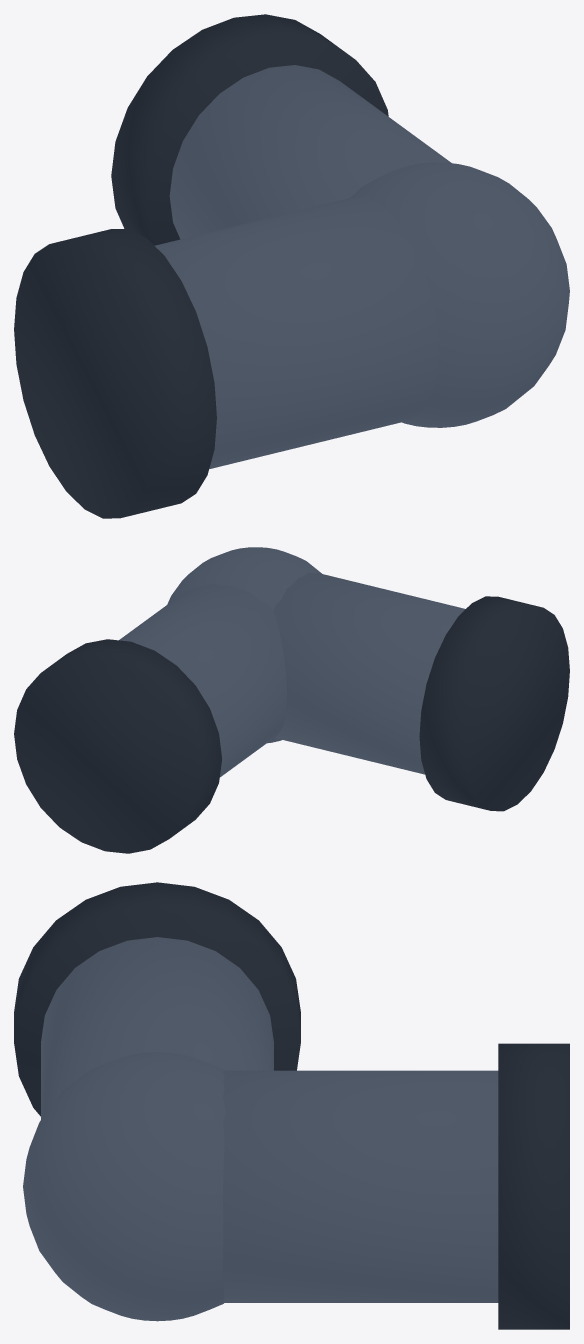
Rendered from tuberia_codo.glb.
The picture shows the model from 3 angles, top to bottom: view 1: azimuth 30°, elevation 25°; view 2: azimuth 150°, elevation 25°; view 3: azimuth 270°, elevation 25°; orthographic projection. The views are drawn at different scales.
Parts seen in each view (by area): view 1: Cylinder.011, Cylinder.013, Sphere, Cylinder.012, Cylinder.014; view 2: Cylinder.014, Cylinder.011, Cylinder.013, Cylinder.012, Sphere; view 3: Cylinder.012, Sphere, Cylinder.011, Cylinder.013, Cylinder.014.
Part boxes in pixels (x1,y1,x2,y2): Cylinder.011: [154, 197, 438, 468]; Cylinder.013: [14, 228, 216, 518]; Sphere: [351, 162, 569, 427]; Cylinder.012: [169, 65, 451, 239]; Cylinder.014: [111, 14, 388, 245]; Cylinder.014: [14, 639, 221, 853]; Cylinder.011: [273, 573, 465, 774]; Cylinder.013: [419, 596, 569, 811]; Cylinder.012: [119, 583, 287, 777]; Sphere: [167, 547, 321, 743]; Cylinder.012: [222, 1070, 498, 1302]; Sphere: [23, 1052, 225, 1321]; Cylinder.011: [41, 937, 273, 1119]; Cylinder.013: [14, 882, 300, 1116]; Cylinder.014: [498, 1043, 569, 1329].
Size of the model in its own units: 0.62 by 0.32 by 0.62.
